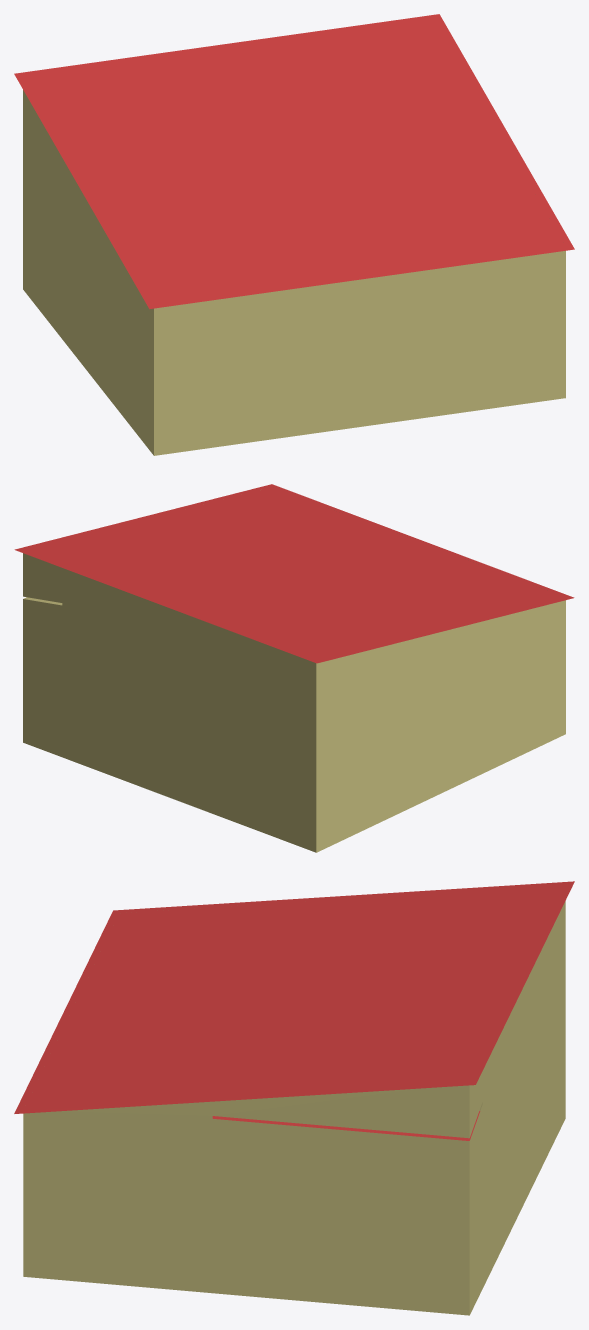
The picture shows the model from 3 angles, top to bottom: view 1: azimuth 30°, elevation 25°; view 2: azimuth 150°, elevation 25°; view 3: azimuth 270°, elevation 25°; orthographic projection. The views are drawn at different scales.
Size of the model in its own units: 18.37 by 17.86 by 8.24.
